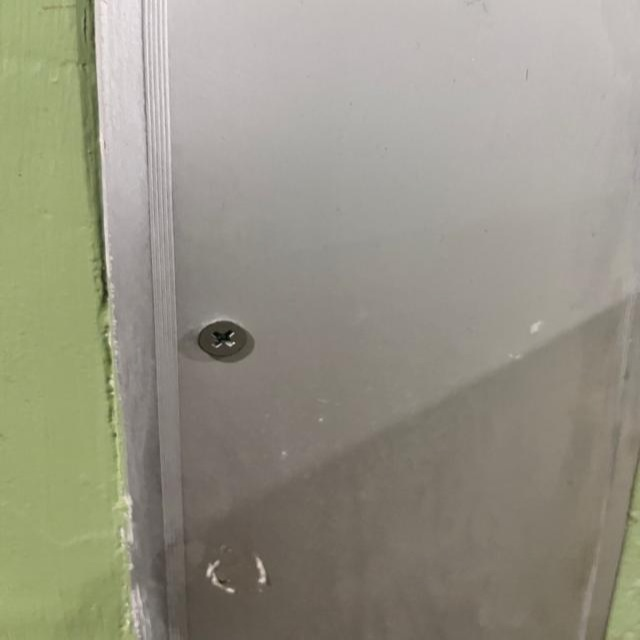phillips: (197, 321, 248, 358)
